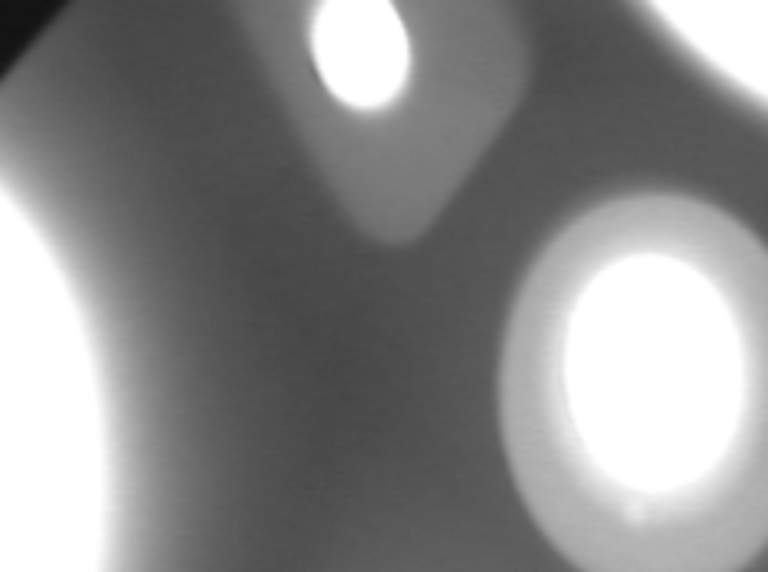defect: (624, 503, 658, 543)
